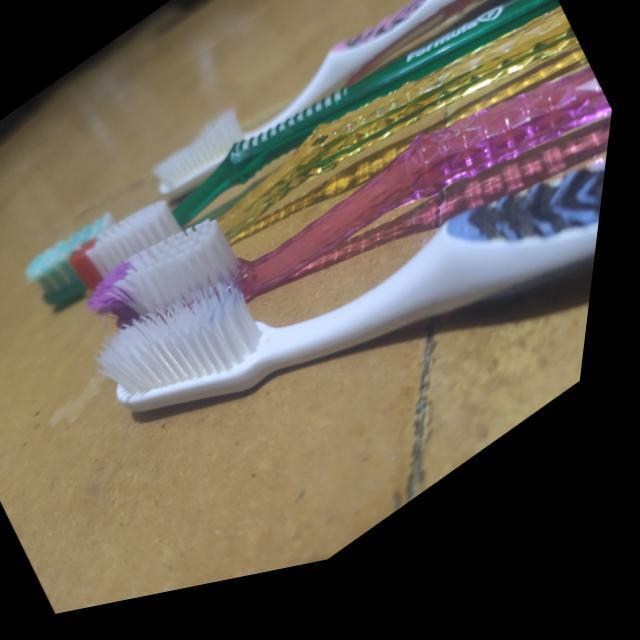toothbrush: (37, 0, 571, 312), (78, 34, 590, 308), (95, 100, 618, 350), (115, 185, 613, 431), (153, 0, 519, 213)
